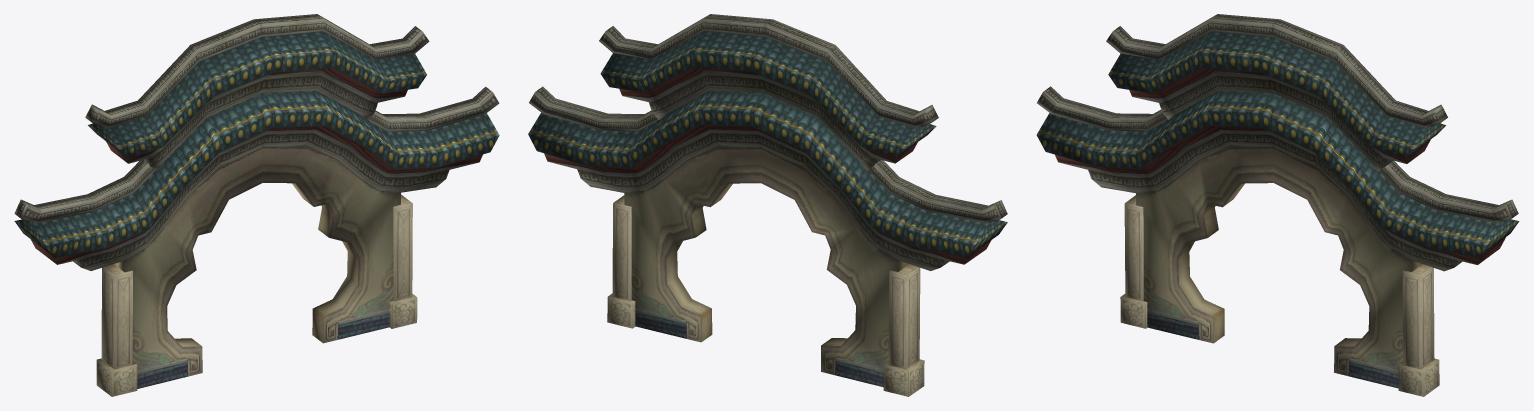
The model's file is environment_Building_qingsangcheng_001_m.FBX.
3 renders of one model, left to right at view 1: azimuth 30°, elevation 25°; view 2: azimuth 150°, elevation 25°; view 3: azimuth 330°, elevation 25°, orthographic.
Parts seen in each view (by area): view 1: environment_Building_qingsangcheng_001_m02, environment_Building_qingsangcheng_001_m01; view 2: environment_Building_qingsangcheng_001_m02, environment_Building_qingsangcheng_001_m01; view 3: environment_Building_qingsangcheng_001_m02, environment_Building_qingsangcheng_001_m01.
Boxes of the visible parts, x1,y1,x2,y2 form: environment_Building_qingsangcheng_001_m02: (14,14,499,396); environment_Building_qingsangcheng_001_m01: (14,31,499,257); environment_Building_qingsangcheng_001_m02: (529,14,1007,396); environment_Building_qingsangcheng_001_m01: (528,30,1007,257); environment_Building_qingsangcheng_001_m02: (1037,14,1518,396); environment_Building_qingsangcheng_001_m01: (1036,31,1519,257).
Size of the model in its own units: 940 by 116 by 630.
Materials: 3 (3 with a texture image).
